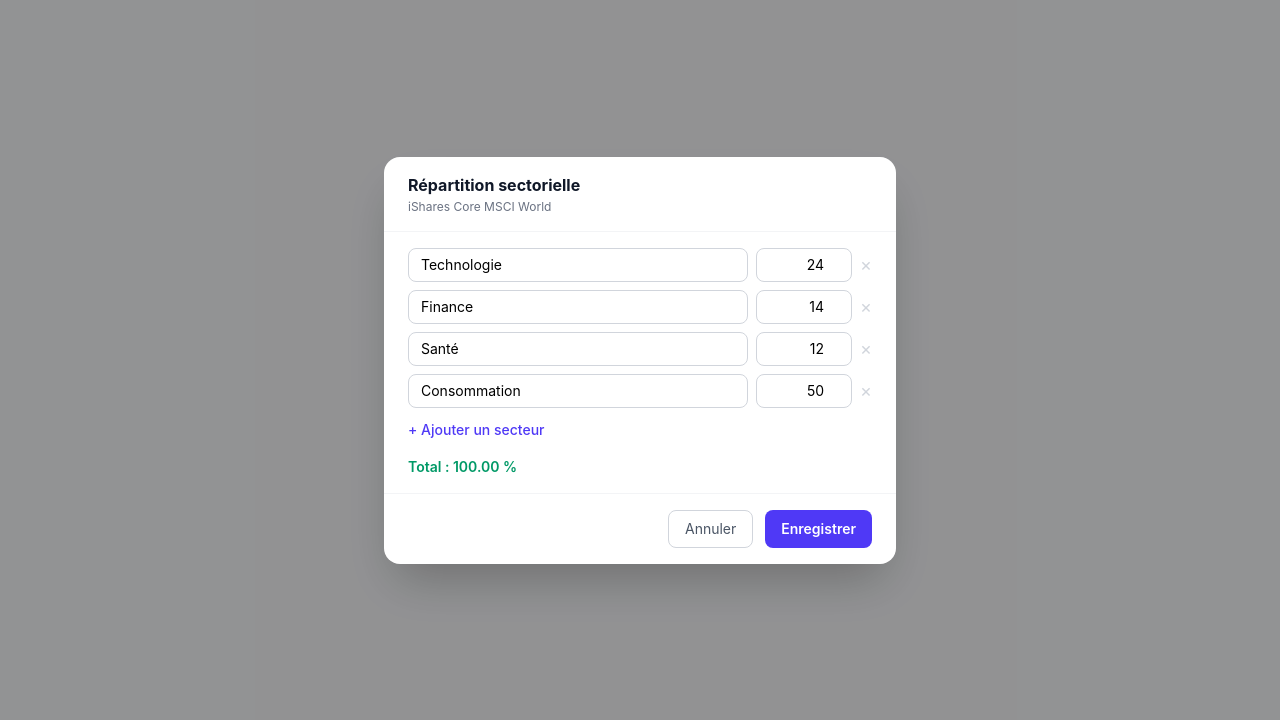
AdminSectorAllocationModal › supprime une ligne au clic sur × (si plus d'une ligne)
The image size is (1280, 720).
Click the 1st button "×" at (866, 264), box [860, 256, 872, 274]
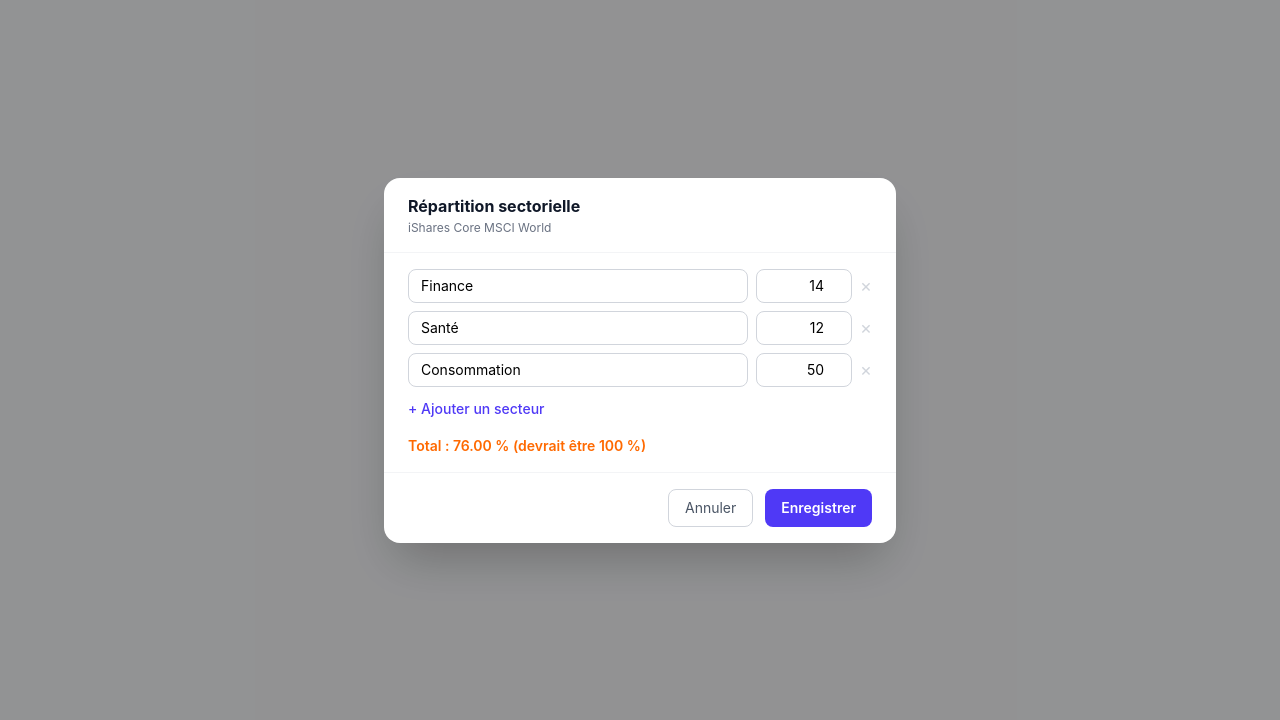
expect the number of fields with placeholder "Secteur" is 3: met, box [408, 268, 748, 302]; [408, 310, 748, 344]; [408, 352, 748, 386]
